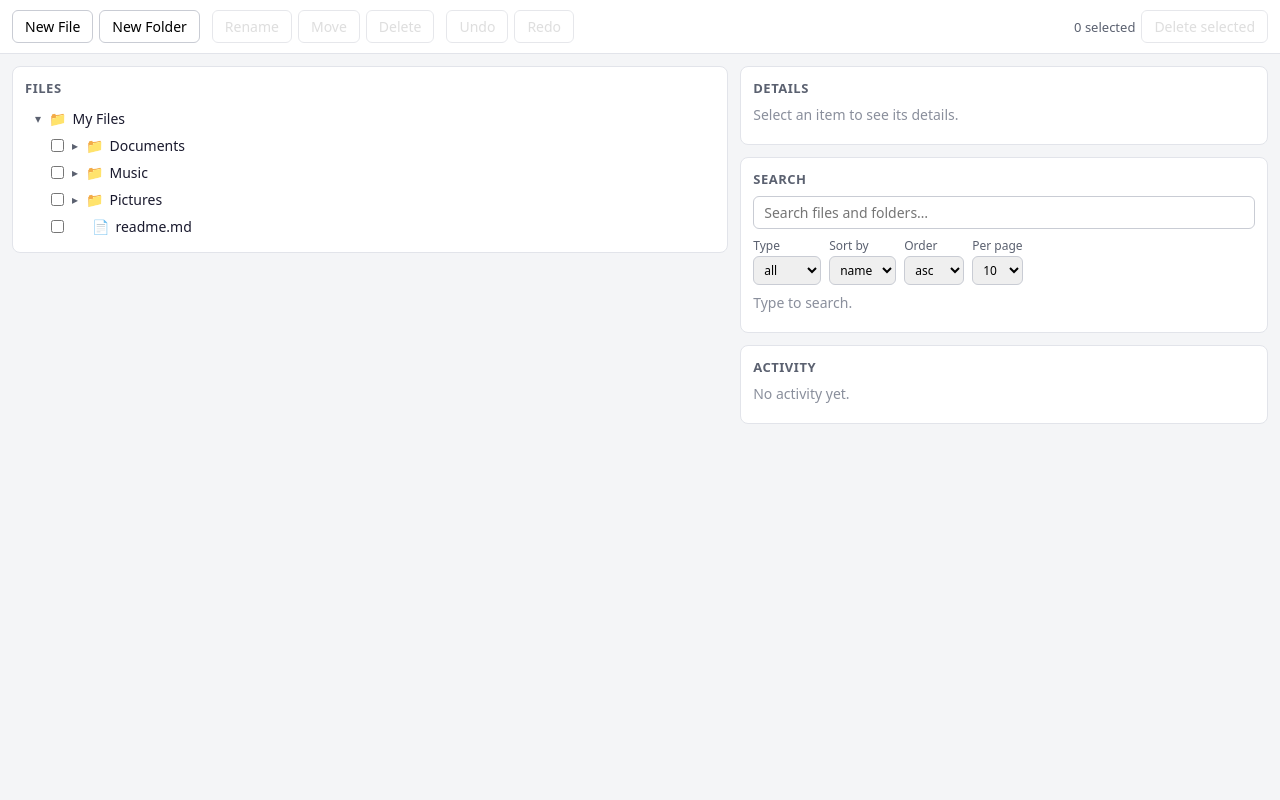
selection consistency › keeps selection and expansion on rename
Click the button named "Expand Documents" at (75,146), box [70, 137, 80, 154]
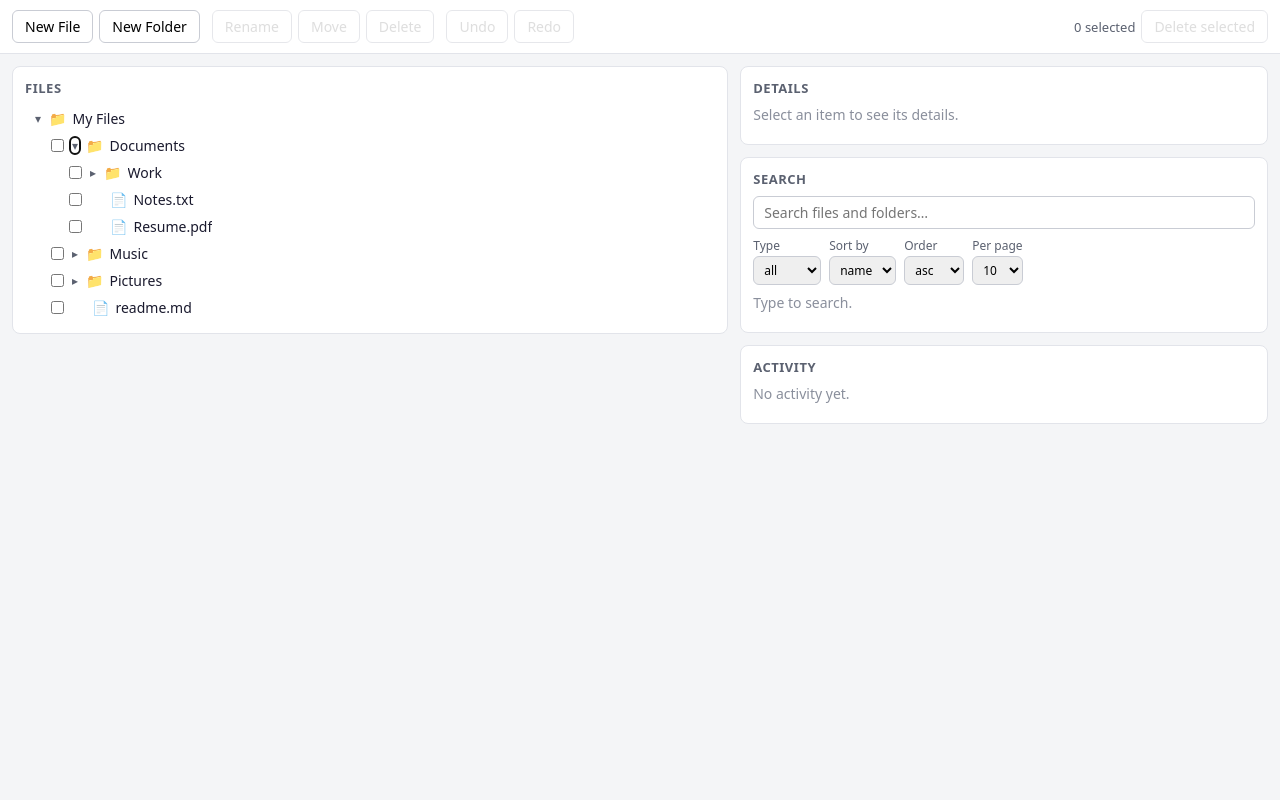
Click the text "Resume.pdf" at (173,226), box [134, 217, 212, 236]
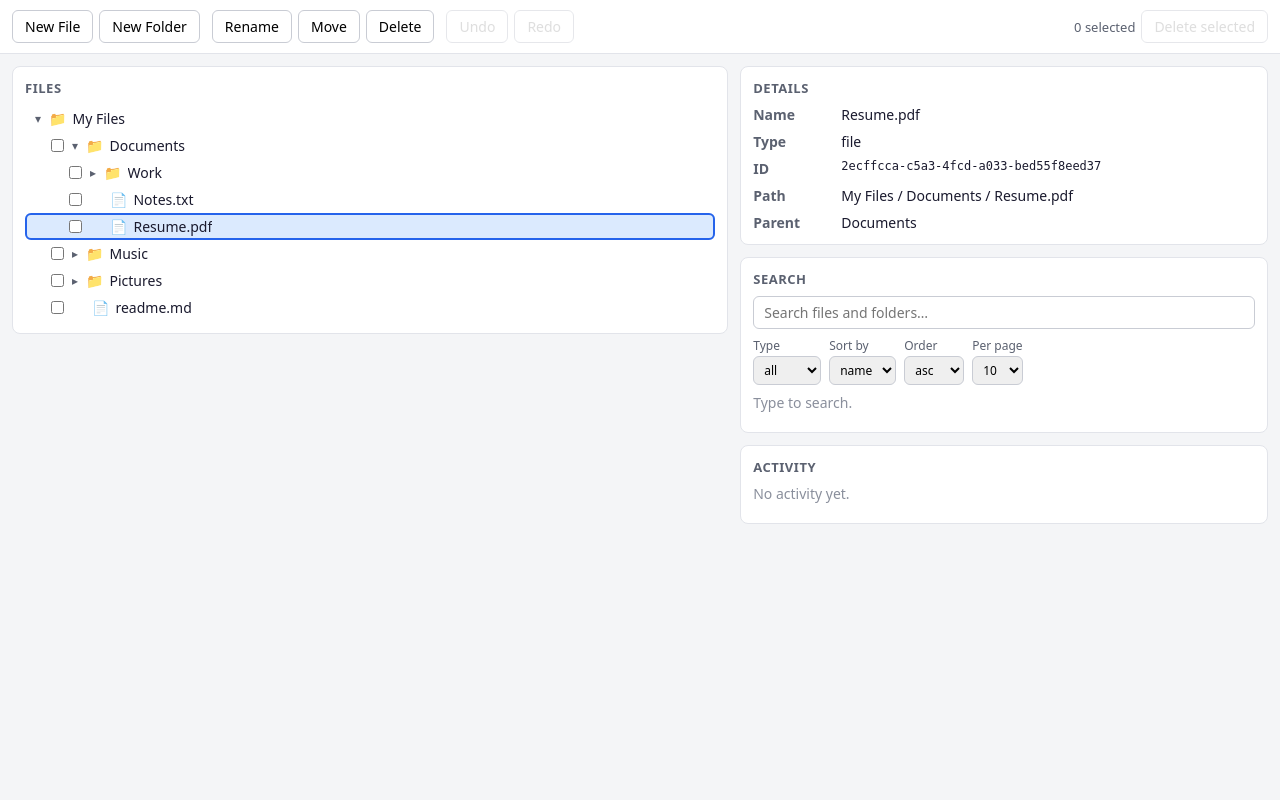
Click the button with test id "rename" at (252,26), box [212, 10, 292, 43]
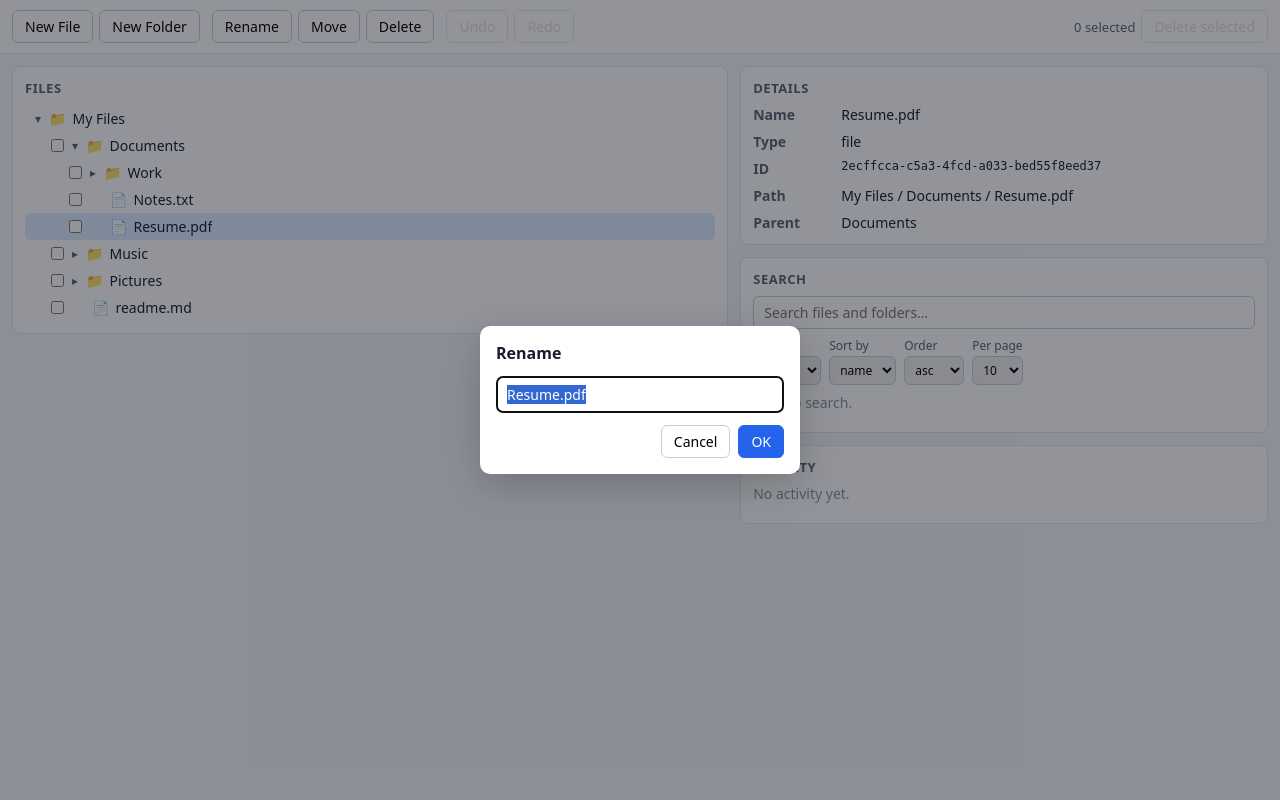
Replace the text in the field with test id "name-input" with "CV.pdf" at (640,394), box [496, 376, 784, 413]
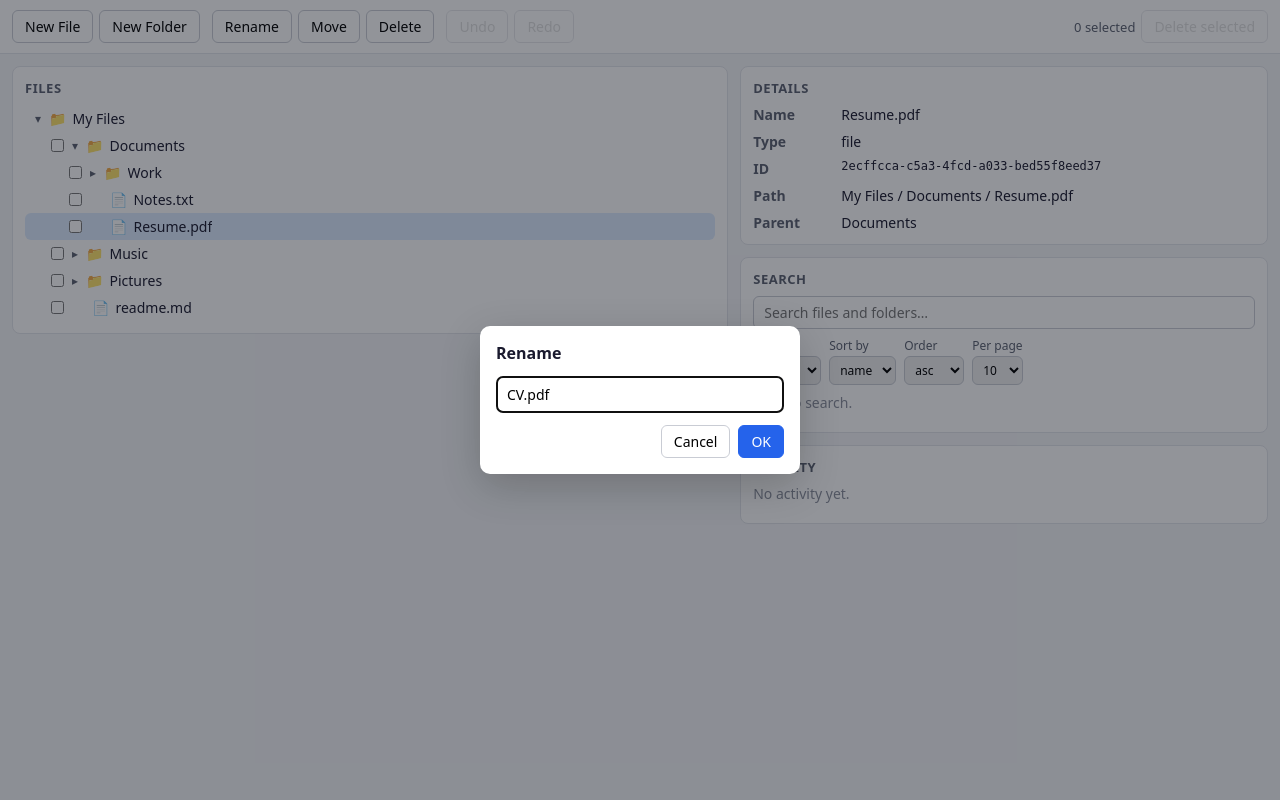
Click the button with test id "name-submit" at (761,442), box [738, 425, 784, 458]
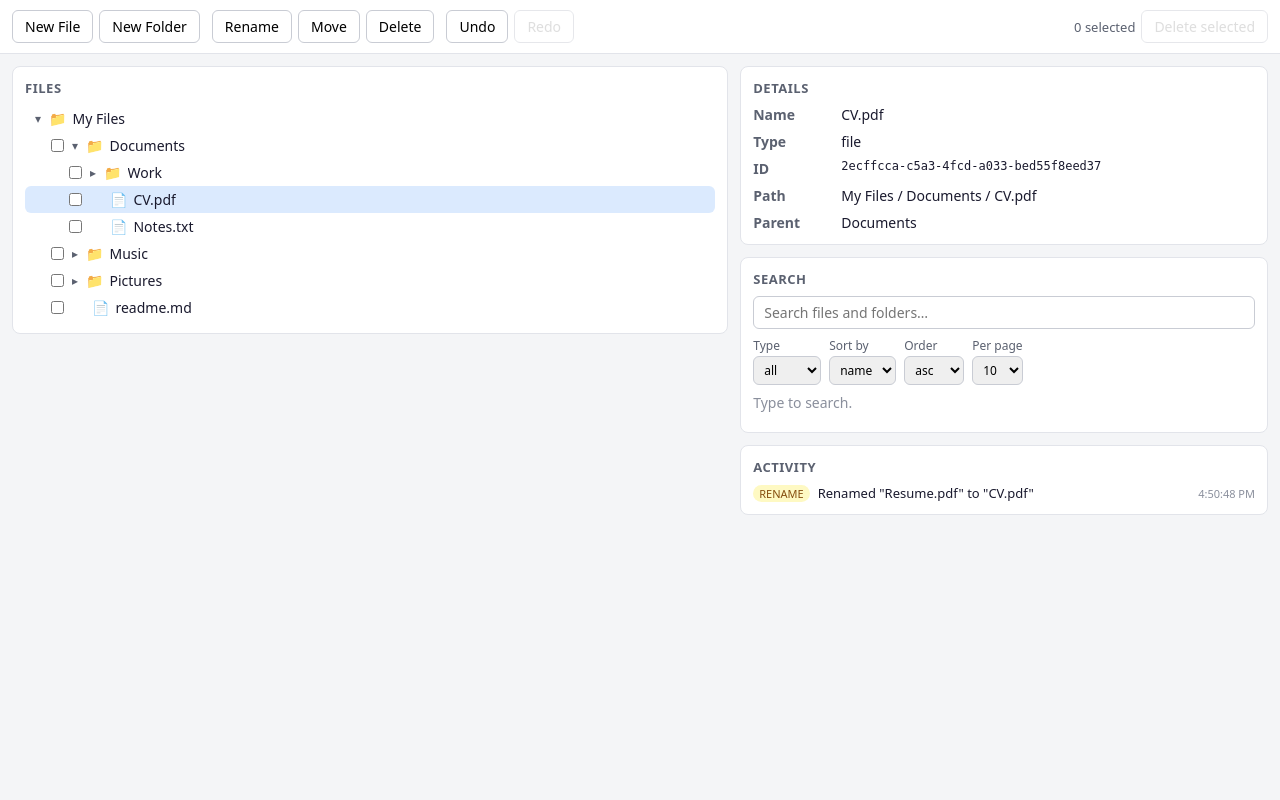
Now the text "CV.pdf" below "Work" is shown, box [134, 190, 176, 209]
